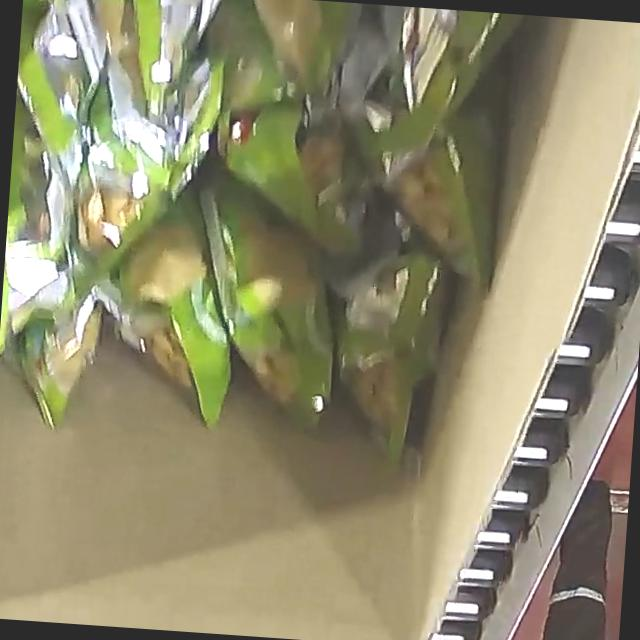yogurt: (0, 0, 566, 480)
